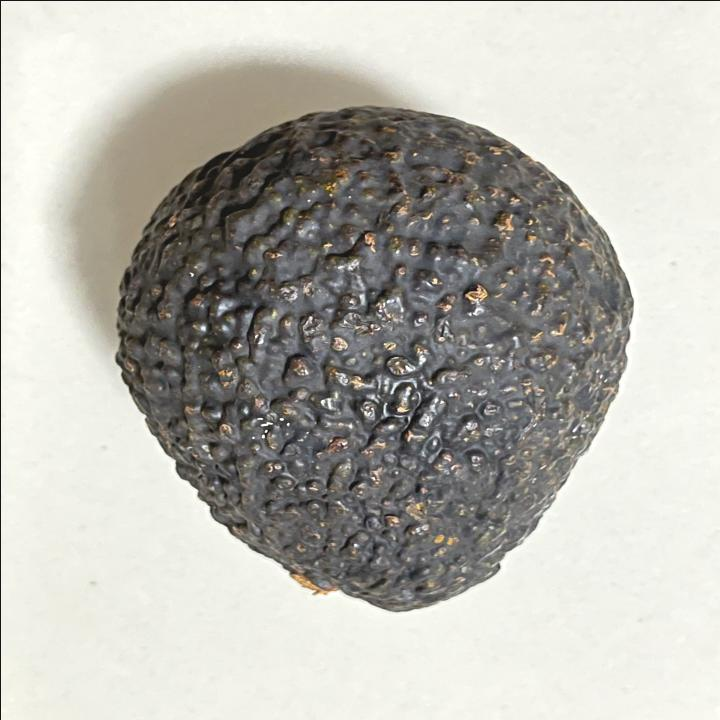Level2: (105, 100, 642, 624)
